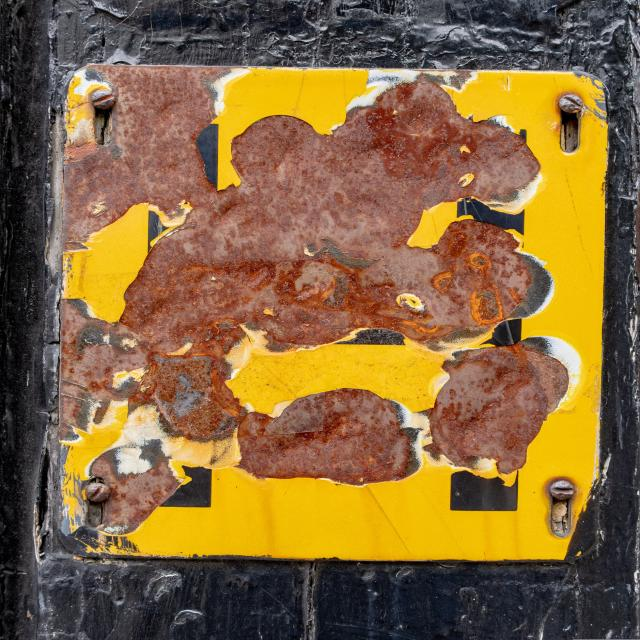Uniform Corrosion: (60, 66, 548, 484), (459, 343, 567, 482)
